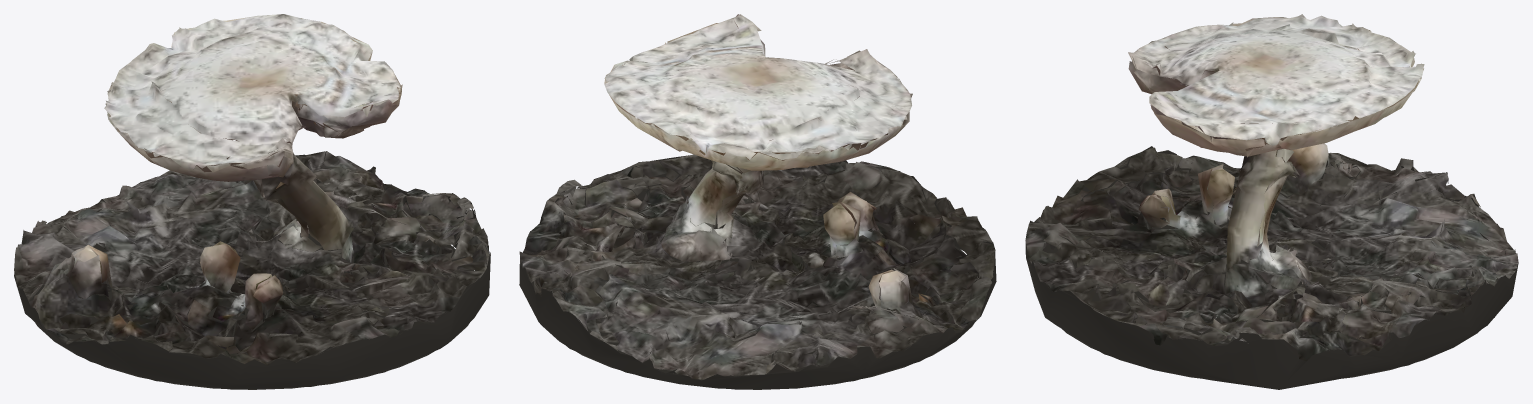
File: veg_shaggy_parasol_mushroom_.glb
The picture shows the model from 3 angles, left to right: view 1: azimuth 30°, elevation 25°; view 2: azimuth 150°, elevation 25°; view 3: azimuth 270°, elevation 25°; orthographic projection. The views are drawn at different scales.
Visible parts, largest first — view 1: Object_2; view 2: Object_2; view 3: Object_2.
Part boxes in pixels (x1,y1,x2,y2): Object_2: [14, 14, 490, 389]; Object_2: [519, 14, 996, 389]; Object_2: [1025, 14, 1518, 389].
Size of the model in its own units: 0.4999 by 0.2579 by 0.5.
Materials: 2 (2 with a texture image).
